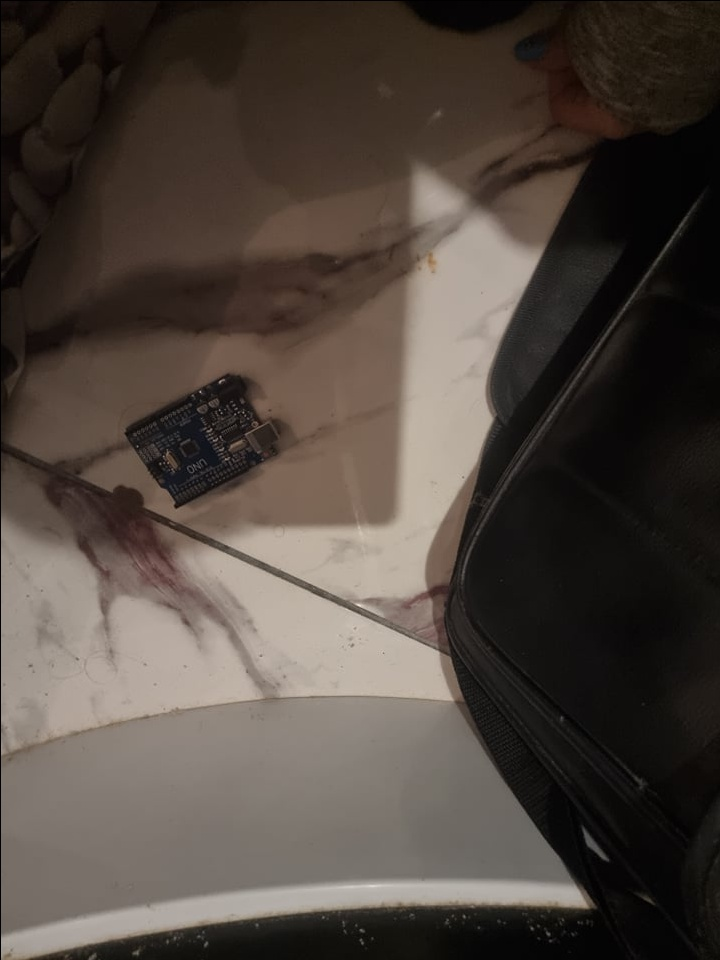UNO R3: (121, 369, 285, 511)
